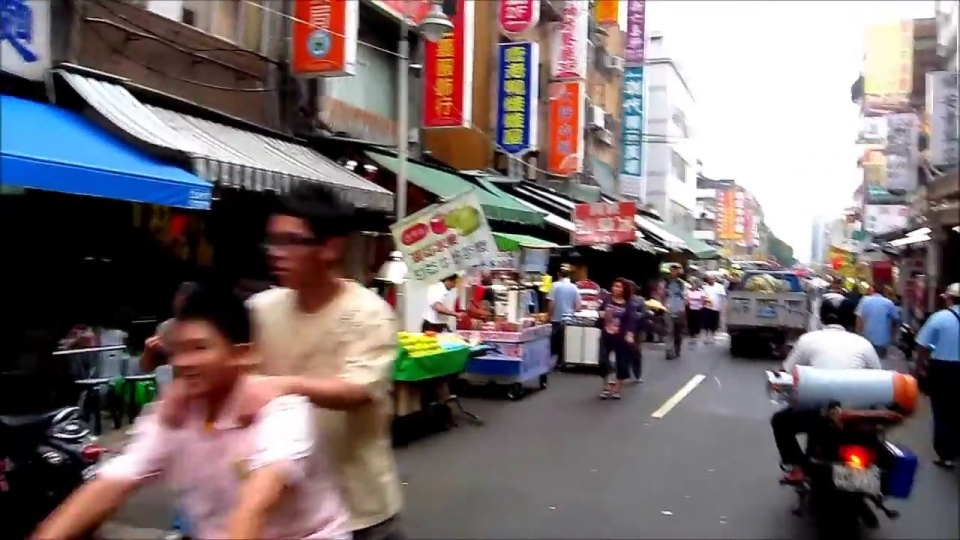person_head: (158, 288, 255, 393), (261, 182, 350, 283), (816, 291, 850, 327), (940, 285, 960, 303), (441, 273, 459, 289), (688, 276, 705, 291), (609, 281, 625, 296), (663, 264, 683, 276), (870, 284, 884, 294), (706, 273, 717, 285)
person_vbox: (162, 182, 408, 540), (34, 288, 351, 540), (762, 291, 882, 481), (909, 284, 960, 472), (594, 279, 634, 402), (850, 282, 904, 366), (542, 267, 579, 372), (419, 272, 466, 333), (662, 261, 687, 360), (455, 282, 494, 331), (685, 276, 706, 354), (706, 274, 723, 345)
